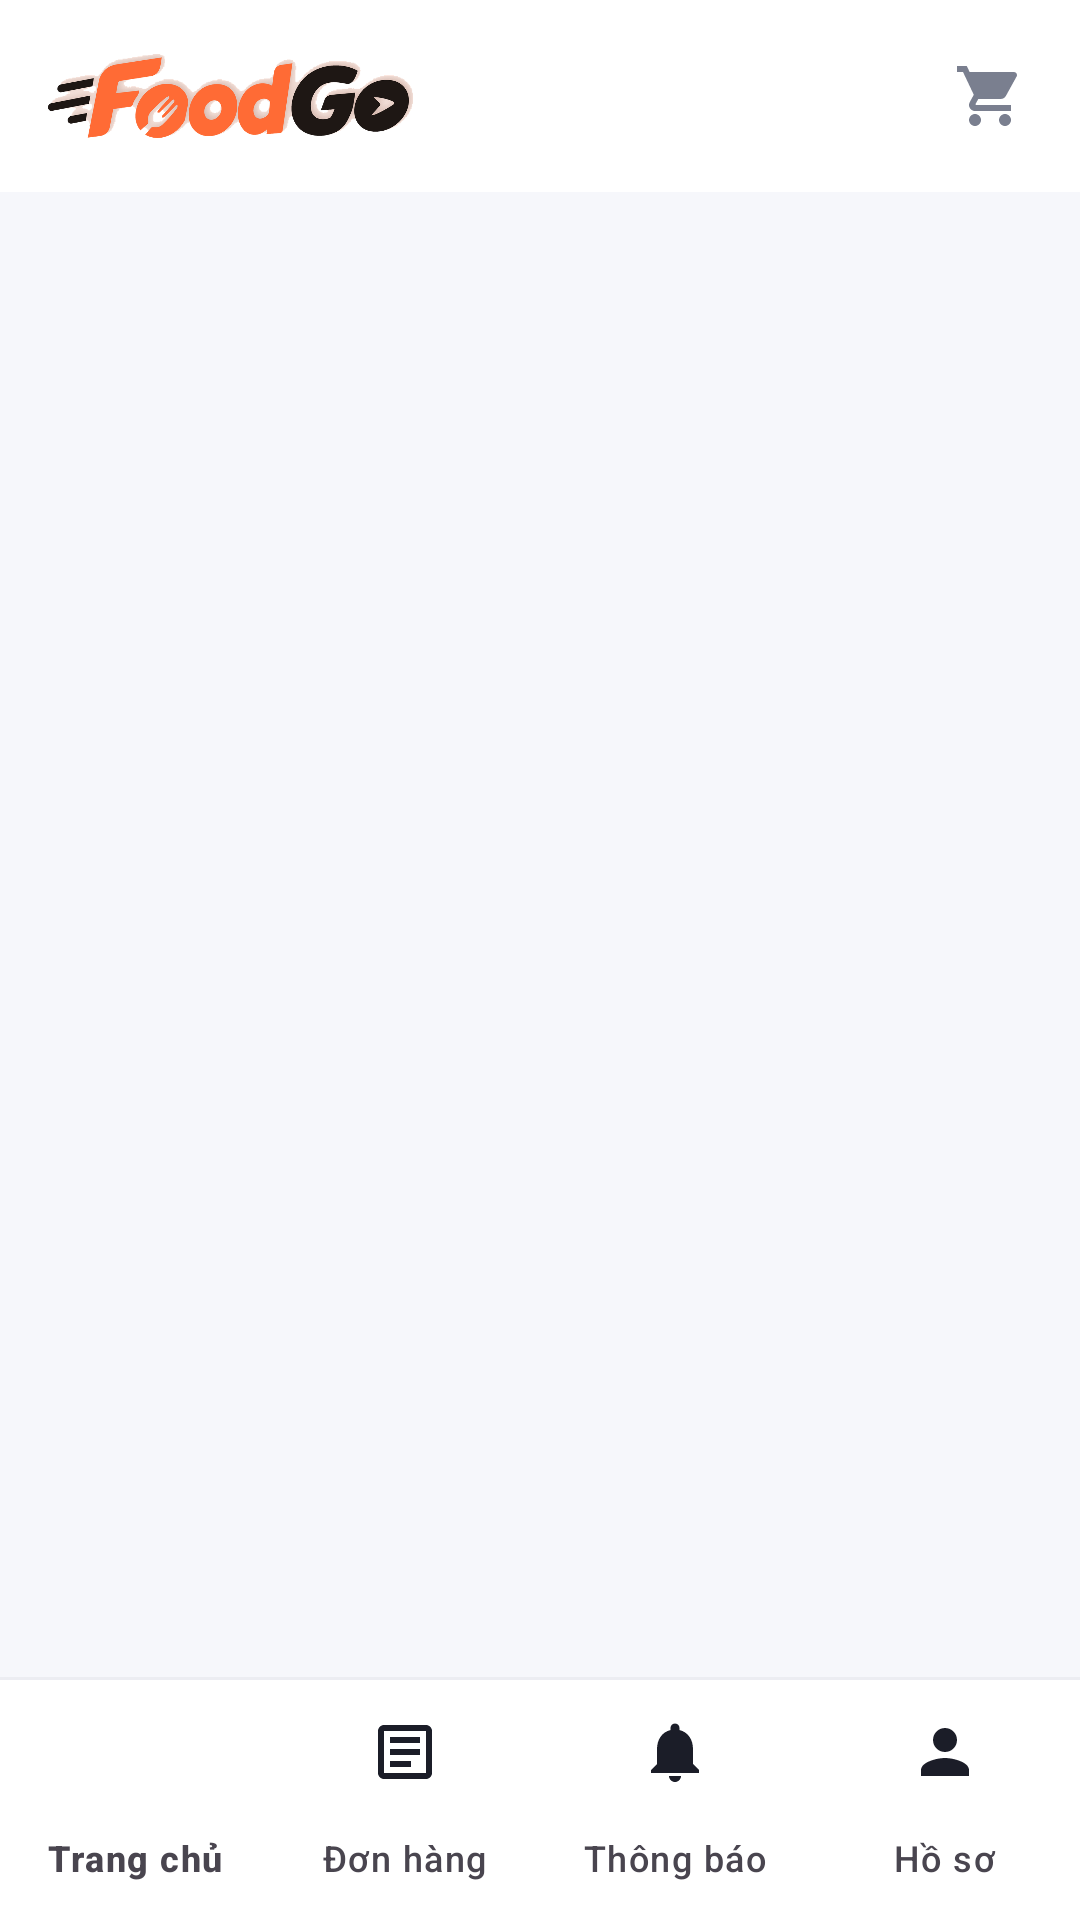

Icons on this 1080*1920 Android screen, each with its box as (x1, y1, x2, y2):
Giỏ hàng: (957, 66, 1017, 126)
